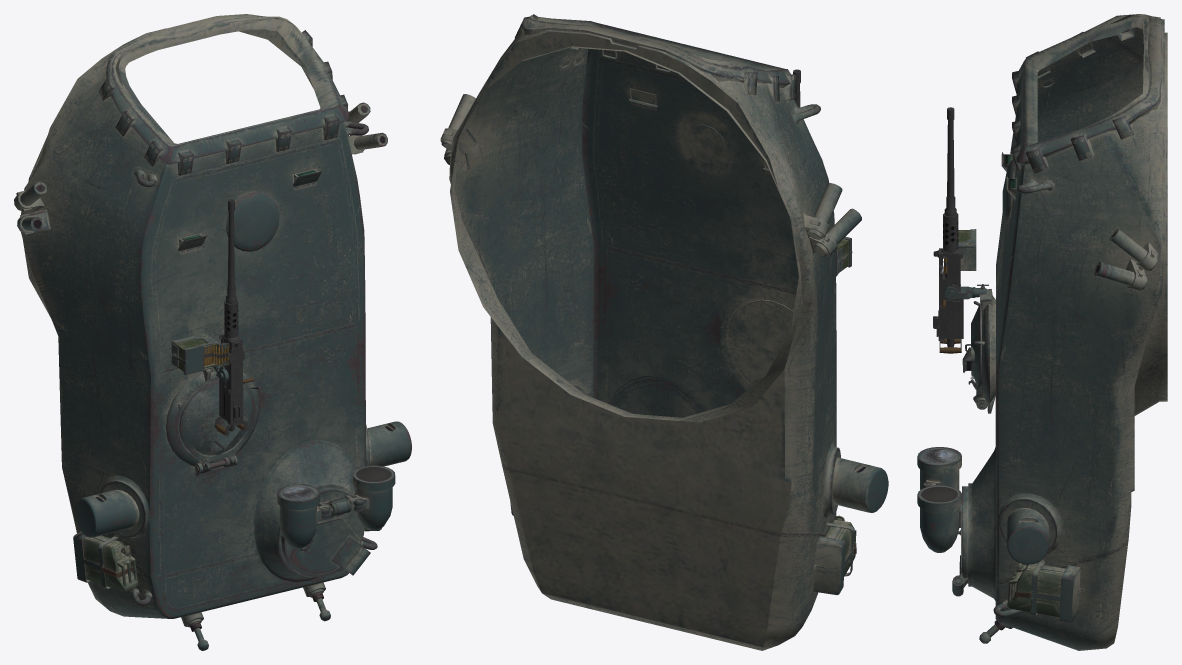
File: Turret_02.glb
3 views of the same model, side by side, from view 1: azimuth 30°, elevation 25°; view 2: azimuth 150°, elevation 25°; view 3: azimuth 270°, elevation 25° (orthographic). The views are drawn at different scales.
Parts seen in each view (by area): view 1: set_0_group_0; view 2: set_0_group_0; view 3: set_0_group_0.
Boxes of the visible parts, bbox=[...] form: set_0_group_0: bbox=[14, 14, 411, 650]; set_0_group_0: bbox=[440, 14, 888, 650]; set_0_group_0: bbox=[917, 14, 1167, 650].
Size of the model in its own units: 3.07 by 4.5 by 1.79.
1 material, 1 textured.
